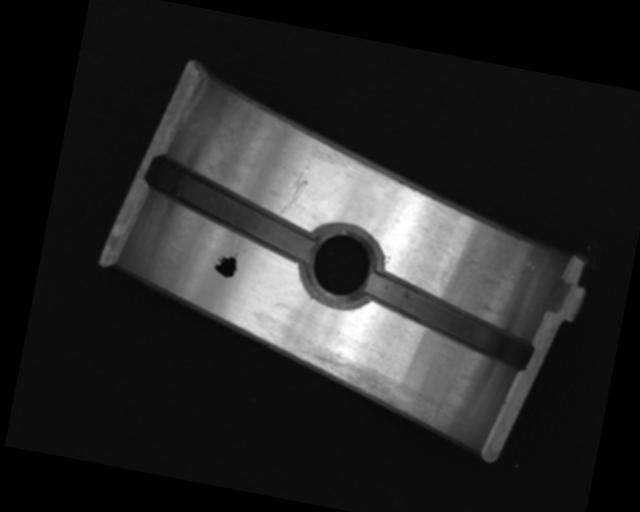blot: (211, 248, 240, 280)
bruise: (458, 255, 480, 267), (523, 259, 539, 273)
gap: (137, 155, 323, 265), (356, 271, 542, 372)
hole: (297, 221, 388, 314)
nick: (278, 162, 313, 220)
scratch: (283, 341, 452, 428)
